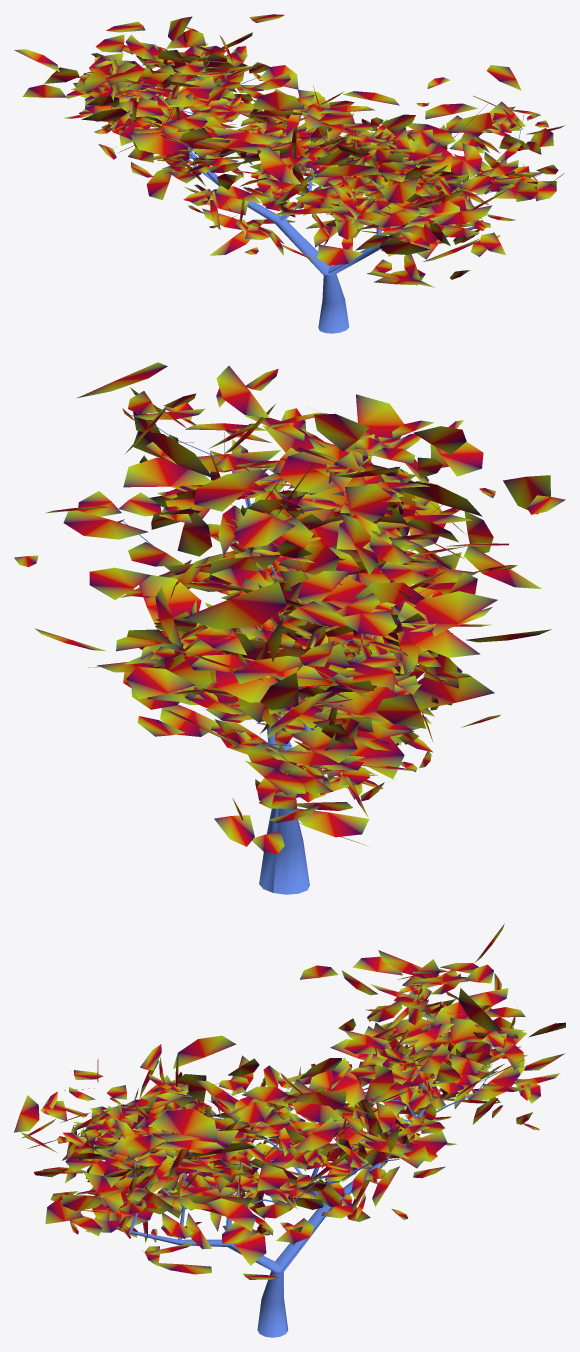
The model's file is arbre3_0_parent.glb.
The picture shows the model from 3 angles, top to bottom: view 1: azimuth 30°, elevation 25°; view 2: azimuth 150°, elevation 25°; view 3: azimuth 270°, elevation 25°; orthographic projection. The views are drawn at different scales.
Parts seen in each view (by area): view 1: leaves, batch; view 2: leaves, batch; view 3: leaves, batch.
Boxes of the visible parts, box(x1,y1,x2,y2) form: leaves: box(14, 14, 565, 287); batch: box(125, 61, 540, 333); leaves: box(14, 362, 565, 854); batch: box(121, 413, 371, 894); leaves: box(14, 924, 565, 1279); batch: box(103, 985, 493, 1337).
Bounding box in the file's own units: 15.2 × 9.75 × 16.31.
